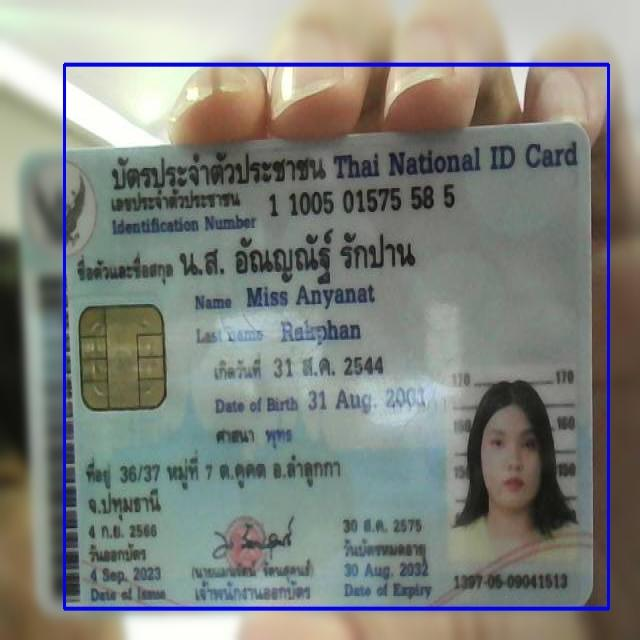Address_th: (82, 445, 345, 523)
Date_of_Birth: (305, 381, 428, 417)
Date_of_Expiry: (339, 559, 434, 581)
Date_of_Issue: (87, 564, 167, 586)
First_Name: (244, 281, 378, 313)
ID_Number: (264, 180, 461, 221)
Image: (441, 365, 579, 561)
Last_Name: (278, 316, 364, 349)
Thai_Name: (173, 225, 418, 285)
